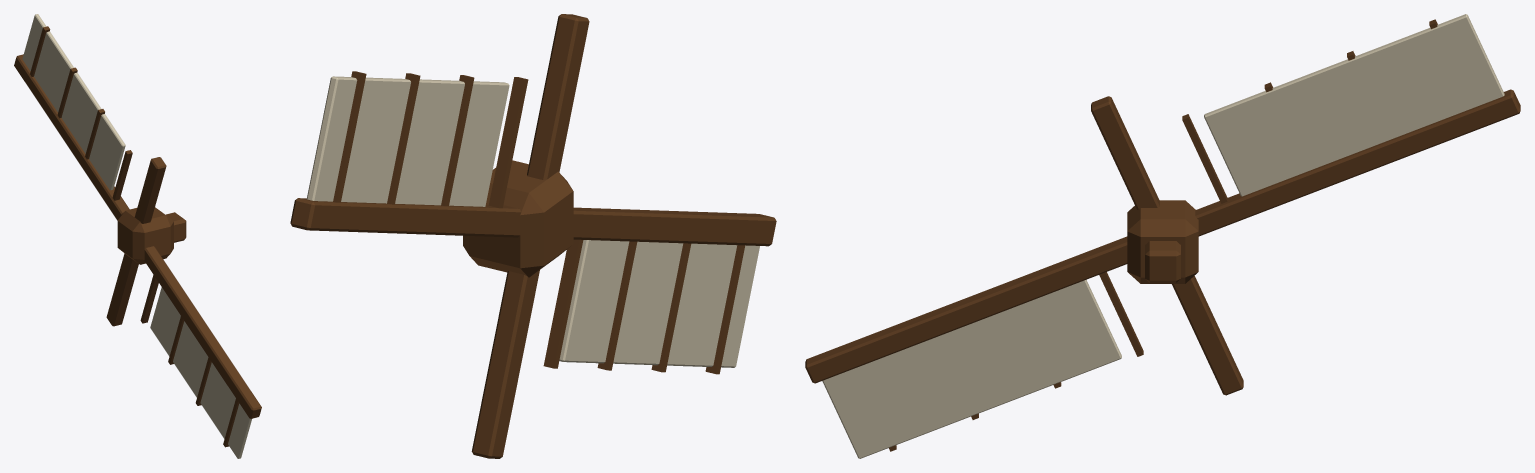
File: WindmillSails.fbx
3 views of the same model, side by side, from view 1: azimuth 30°, elevation 25°; view 2: azimuth 150°, elevation 25°; view 3: azimuth 270°, elevation 25° (orthographic). The views are drawn at different scales.
Parts seen in each view (by area): view 1: Spar, Sail, Hub; view 2: Sail, Spar, Hub; view 3: Sail, Spar, Hub.
Part boxes in pixels (bbox=[...]): Spar: bbox=[14, 26, 261, 447]; Sail: bbox=[22, 14, 251, 458]; Hub: bbox=[117, 207, 173, 264]; Sail: bbox=[306, 76, 759, 367]; Spar: bbox=[290, 14, 776, 458]; Hub: bbox=[463, 160, 573, 277]; Sail: bbox=[822, 14, 1504, 458]; Spar: bbox=[805, 19, 1520, 451]; Hub: bbox=[1127, 200, 1198, 283].
Bounding box in the file's own units: 2.2 × 10.94 × 16.
